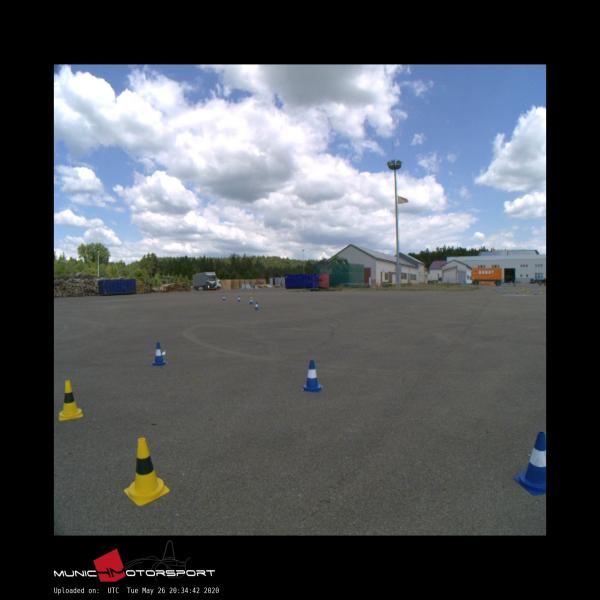blue_cone: (513, 432, 546, 495), (303, 361, 322, 391), (151, 342, 167, 366), (254, 302, 259, 310), (249, 298, 253, 304), (222, 295, 226, 300), (238, 296, 240, 302)
yellow_cone: (124, 438, 169, 506), (58, 380, 83, 420), (250, 294, 252, 298)
